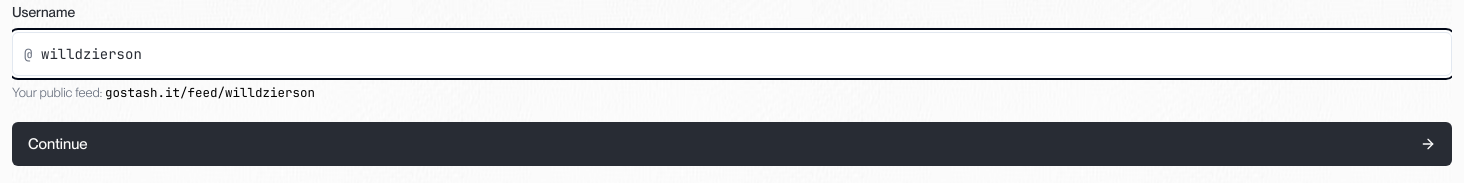
Test: HandleStep › a typed taken handle still errors
Replace the text in the field labelled "Username" with "taken": (732, 54) [12,32,1452,76]
Wait 400 ms
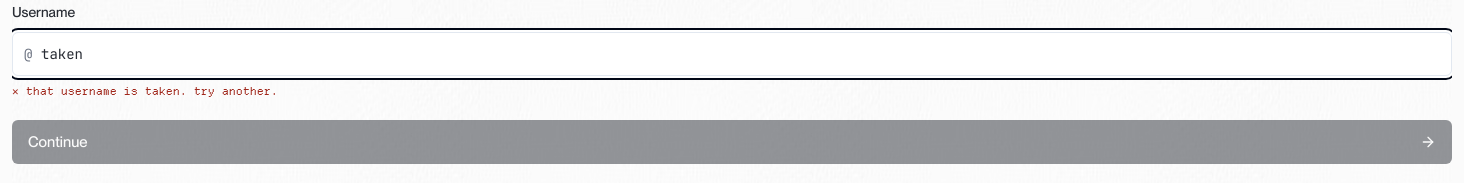
Result: the text "✕ that username is taken. try another." is shown at [12,84,278,98]
Result: the button "Continue" is disabled at [12,120,1452,164]
// typing the prefill back in is typing too
Replace the text in the field labelled "Username" with "willdzierso": (732, 54) [12,32,1452,76]
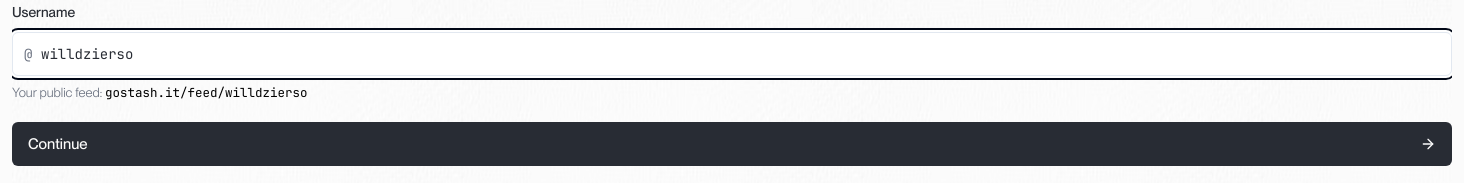
Replace the text in the field labelled "Username" with "willdzierson": (732, 54) [12,32,1452,76]
Wait 400 ms
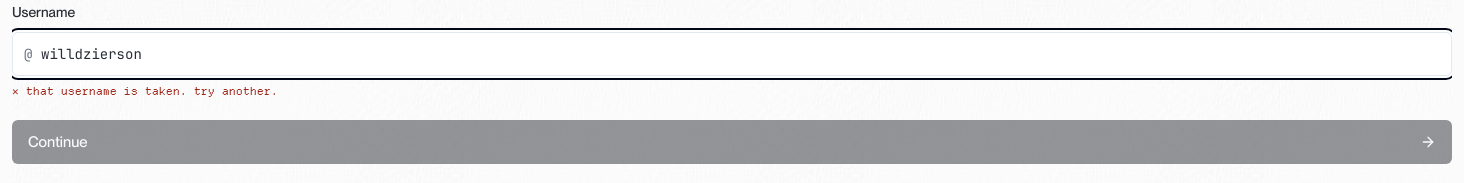
Result: the text "✕ that username is taken. try another." is shown at [12,84,278,98]
